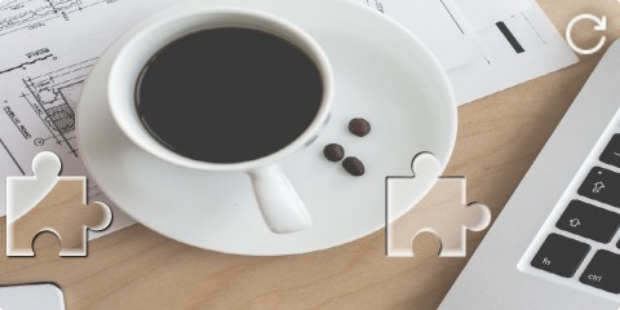target: (385, 151, 490, 258)
